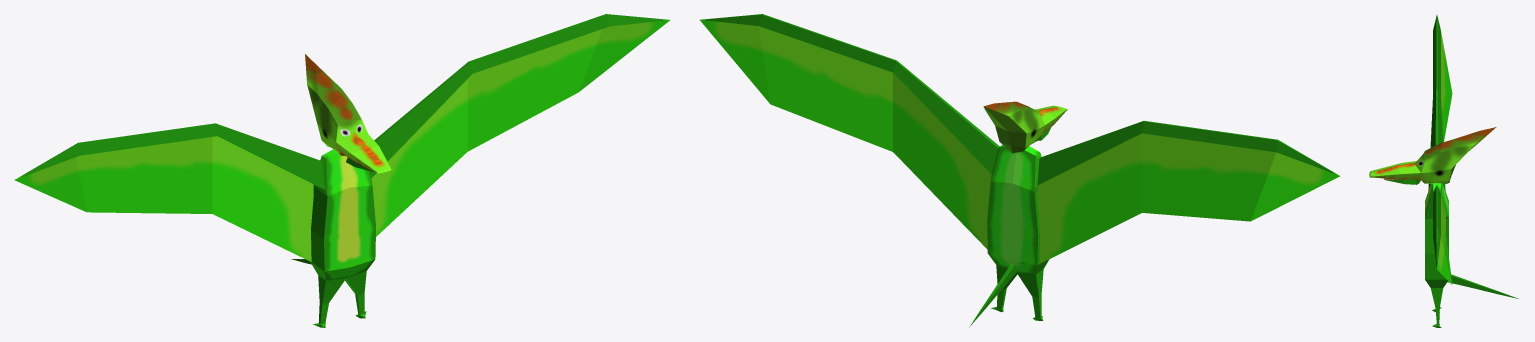
Rendered from Ptero.obj.
The picture shows the model from 3 angles, left to right: view 1: azimuth 30°, elevation 25°; view 2: azimuth 150°, elevation 25°; view 3: azimuth 270°, elevation 25°; orthographic projection. The views are drawn at different scales.
Visible parts, largest first — view 1: AlaDerecha_Cube.006, AlaIzquierda_Cube.002, Cuerpo_Cube.001, Cabeza_Cube.003; view 2: AlaIzquierda_Cube.002, AlaDerecha_Cube.006, Cuerpo_Cube.001, Cabeza_Cube.003; view 3: Cabeza_Cube.003, AlaDerecha_Cube.006, Cuerpo_Cube.001, AlaIzquierda_Cube.002, Cube_Cube.005, Mandibula_Cube.004.
Boxes of the visible parts, box(x1,y1,x2,y2) form: AlaDerecha_Cube.006: box(14, 123, 324, 261); AlaIzquierda_Cube.002: box(369, 14, 669, 236); Cuerpo_Cube.001: box(310, 149, 375, 327); Cabeza_Cube.003: box(305, 54, 391, 173); AlaIzquierda_Cube.002: box(700, 14, 999, 249); AlaDerecha_Cube.006: box(1037, 120, 1340, 263); Cuerpo_Cube.001: box(987, 145, 1049, 320); Cabeza_Cube.003: box(983, 101, 1067, 153); Cabeza_Cube.003: box(1369, 127, 1496, 183); AlaDerecha_Cube.006: box(1428, 15, 1452, 190); Cuerpo_Cube.001: box(1425, 183, 1448, 327); AlaIzquierda_Cube.002: box(1428, 185, 1452, 284); Cube_Cube.005: box(1447, 274, 1518, 298); Mandibula_Cube.004: box(1383, 178, 1420, 184).
Bounding box in the file's own units: 9.37 × 3.33 × 2.34.
4 materials, 4 textured.
